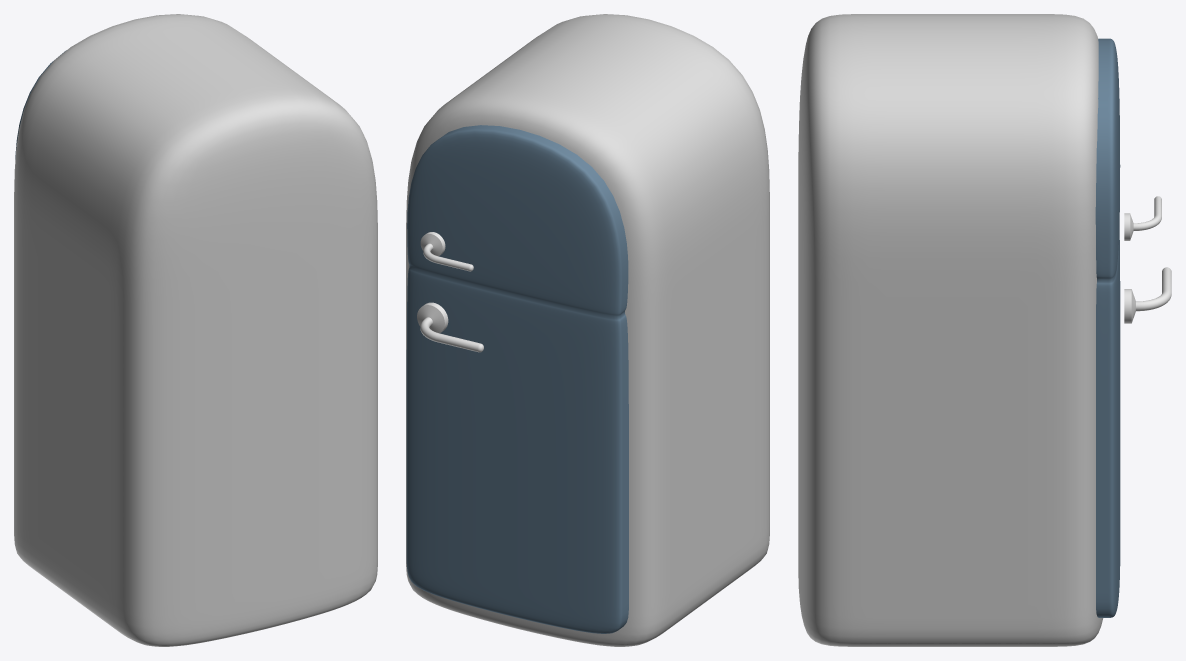
The model's file is fridge.fbx.
3 renders of one model, left to right at view 1: azimuth 30°, elevation 25°; view 2: azimuth 150°, elevation 25°; view 3: azimuth 270°, elevation 25°, orthographic. The views are drawn at different scales.
Parts seen in each view (by area): view 1: Cube; view 2: Cube, Cube.001, Circle, Circle.001; view 3: Cube, Cube.001, Circle, Circle.001.
Boxes of the visible parts, x1,y1,x2,y2 form: Cube: (14, 14, 377, 646); Cube: (406, 14, 769, 646); Cube.001: (406, 125, 628, 633); Circle: (417, 302, 483, 352); Circle.001: (420, 232, 473, 271); Cube: (798, 14, 1103, 646); Cube.001: (1095, 38, 1120, 617); Circle: (1124, 267, 1171, 323); Circle.001: (1124, 196, 1161, 240).
Bounding box in the file's own units: 200 × 395 × 239.
